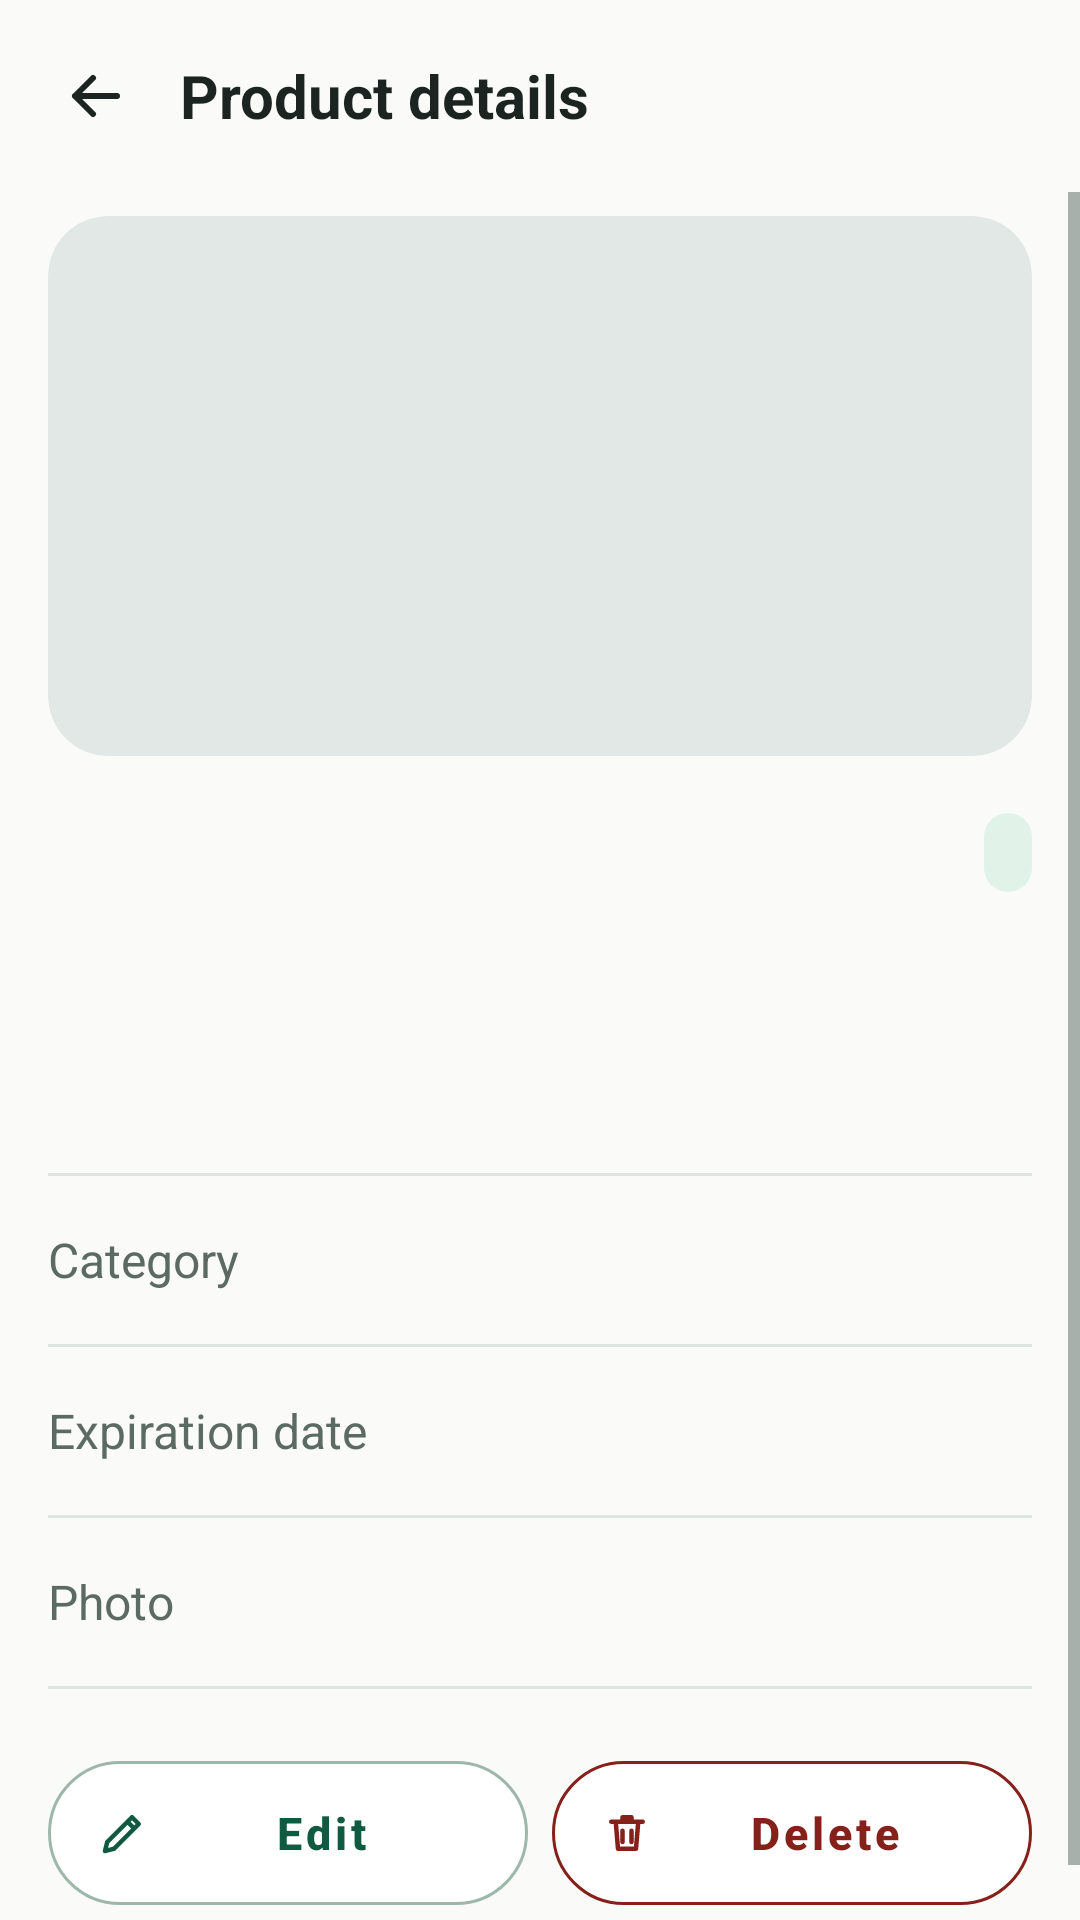

Screen size 1080x1920. Icon name, then its box in pixels as (x1, y1, x2, y2):
Back: (72, 75, 120, 117)
